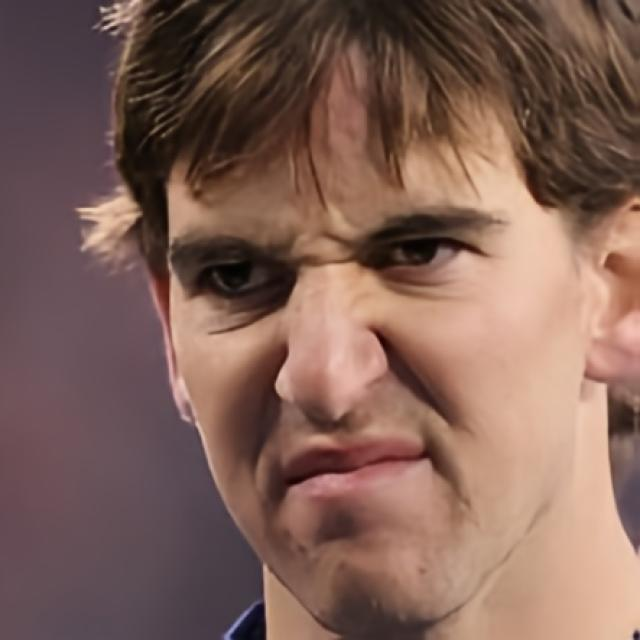disgust: (166, 21, 585, 640)
